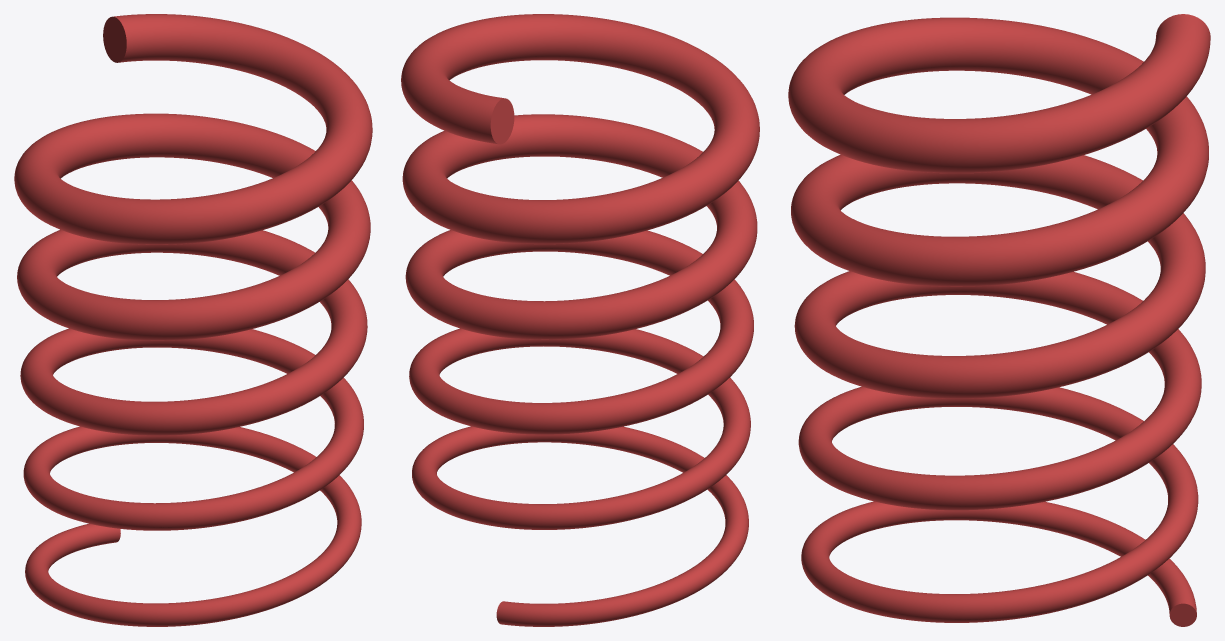
The picture shows the model from 3 angles, left to right: view 1: azimuth 30°, elevation 25°; view 2: azimuth 150°, elevation 25°; view 3: azimuth 270°, elevation 25°; orthographic projection. The views are drawn at different scales.
Bounding box in the file's own units: 6.16 × 9.9 × 6.17.
